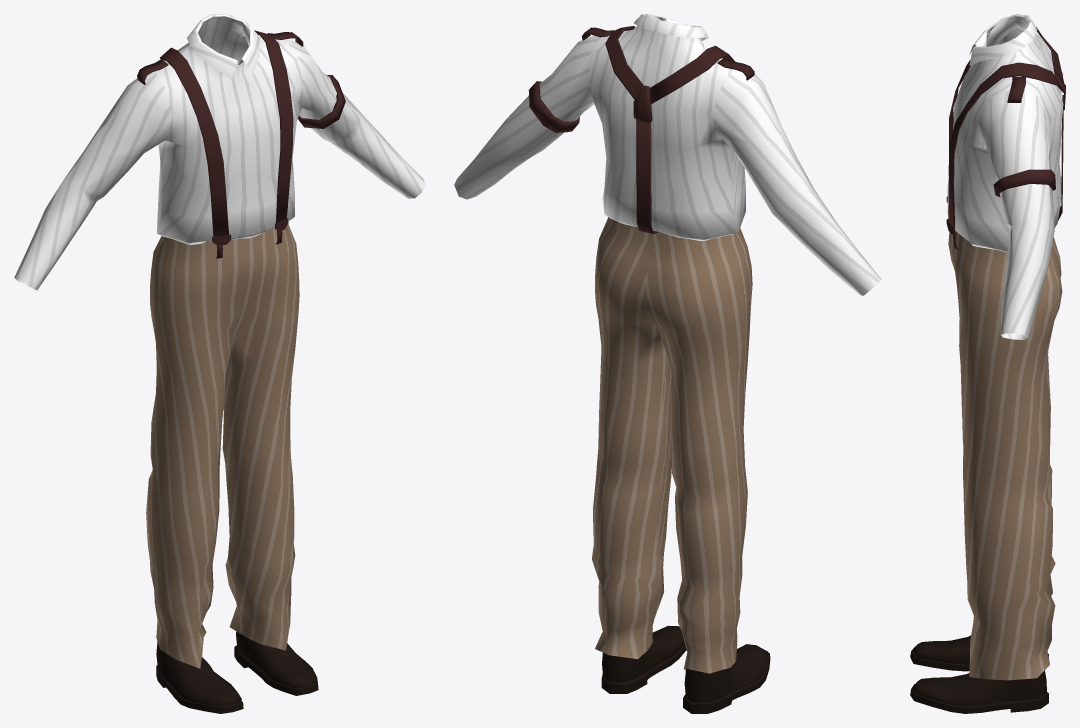
The model's file is player2.glb.
The picture shows the model from 3 angles, left to right: view 1: azimuth 30°, elevation 25°; view 2: azimuth 150°, elevation 25°; view 3: azimuth 270°, elevation 25°; orthographic projection. The views are drawn at different scales.
Visible parts, largest first — view 1: Object_3, Object_2, Object_5, Object_4; view 2: Object_3, Object_2, Object_4, Object_5; view 3: Object_3, Object_2, Object_4, Object_5.
Boxes of the visible parts, x1,y1,x2,y2 form: Object_3: (146, 222, 299, 668); Object_2: (14, 14, 425, 290); Object_5: (137, 30, 345, 258); Object_4: (156, 631, 318, 713); Object_3: (592, 217, 752, 673); Object_2: (454, 14, 881, 295); Object_4: (601, 625, 770, 713); Object_5: (528, 25, 754, 234); Object_3: (948, 232, 1062, 680); Object_2: (947, 14, 1063, 339); Object_4: (910, 635, 1048, 713); Object_5: (946, 27, 1065, 249).
Size of the model in its own units: 1.01 by 1.54 by 0.3285.
4 materials, 2 textured.
